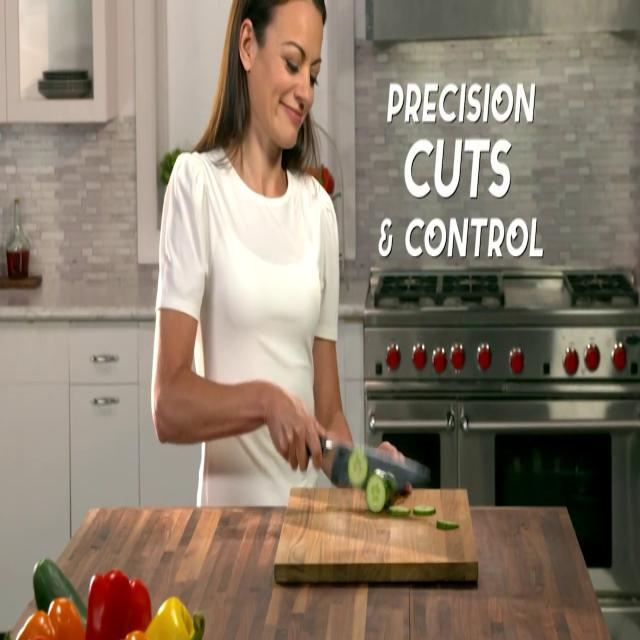Knife_Handle: (265, 379, 431, 489)
